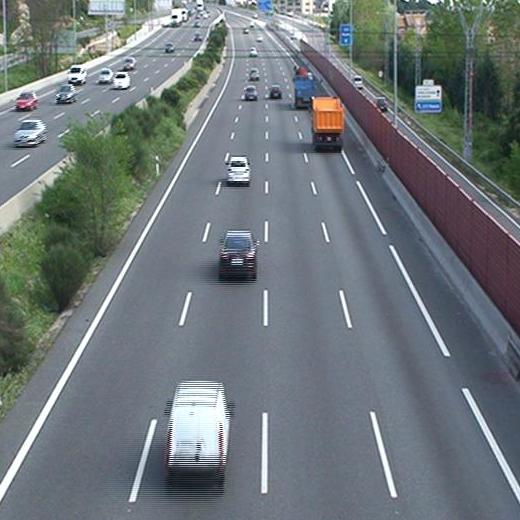car: (218, 231, 258, 278), (224, 155, 252, 183), (243, 85, 258, 101), (269, 84, 282, 100), (248, 68, 260, 81)
small-truck: (310, 97, 344, 150)
van: (163, 381, 232, 481)
